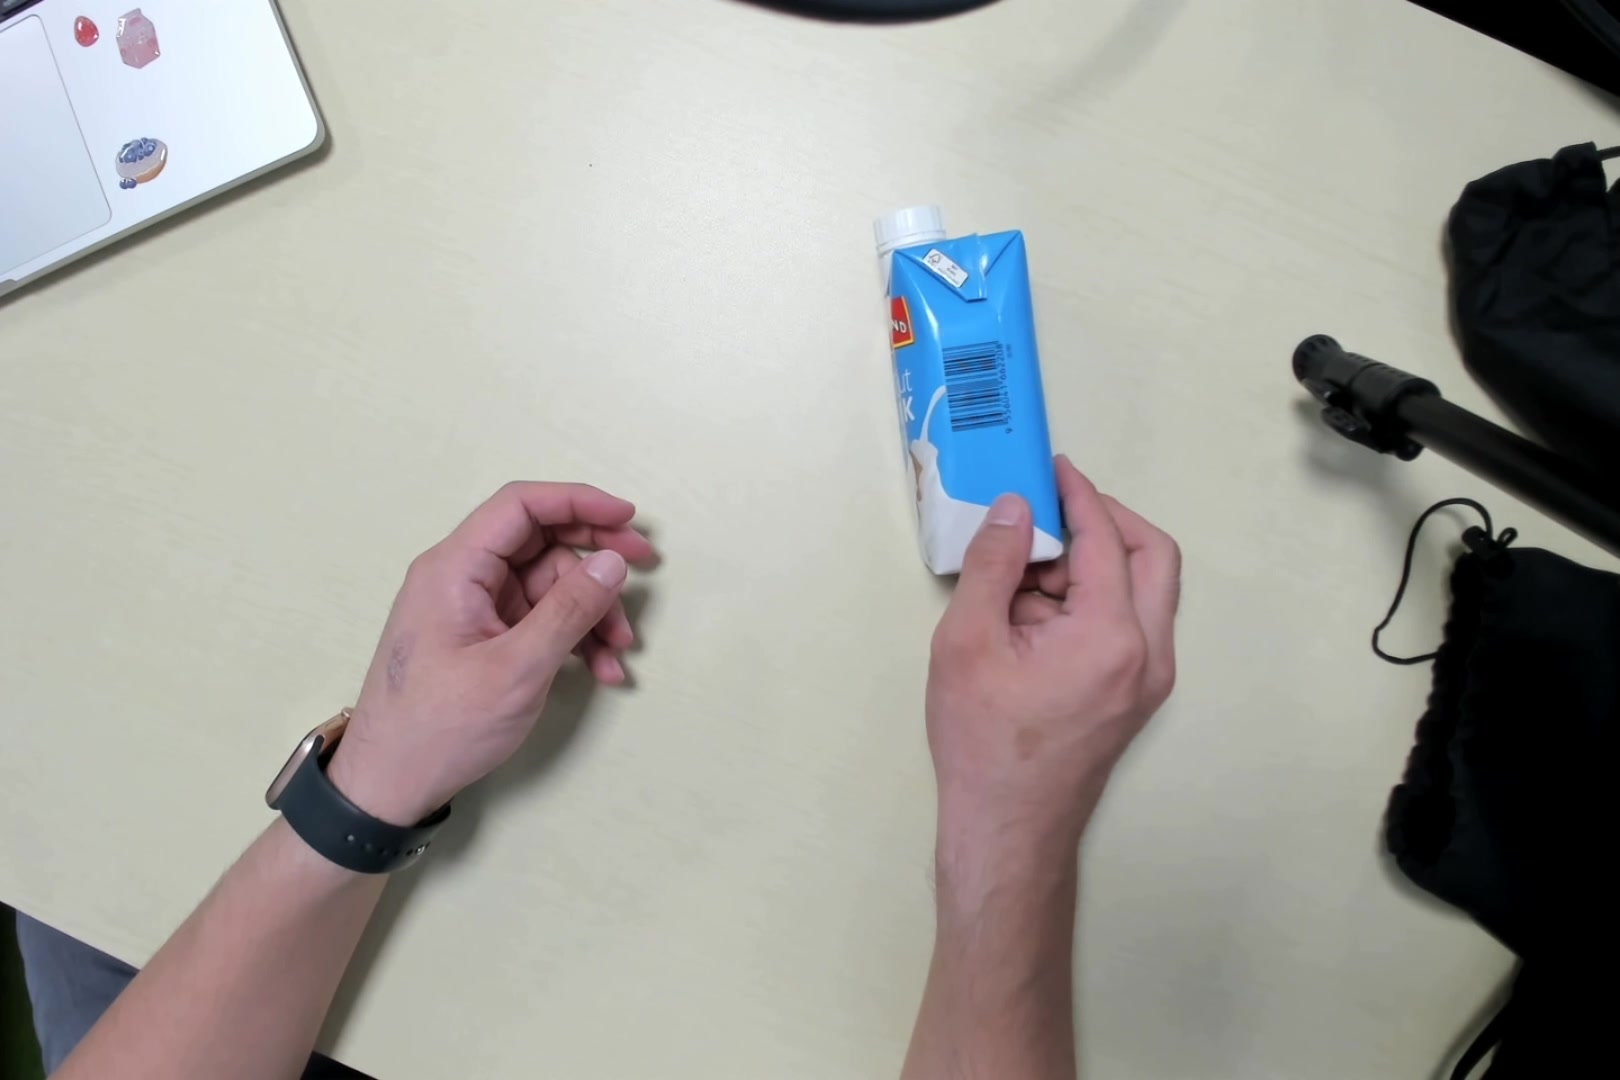CookingCreamMilk_300-399g_Halal_NonHealthy: (867, 190, 1070, 587)
